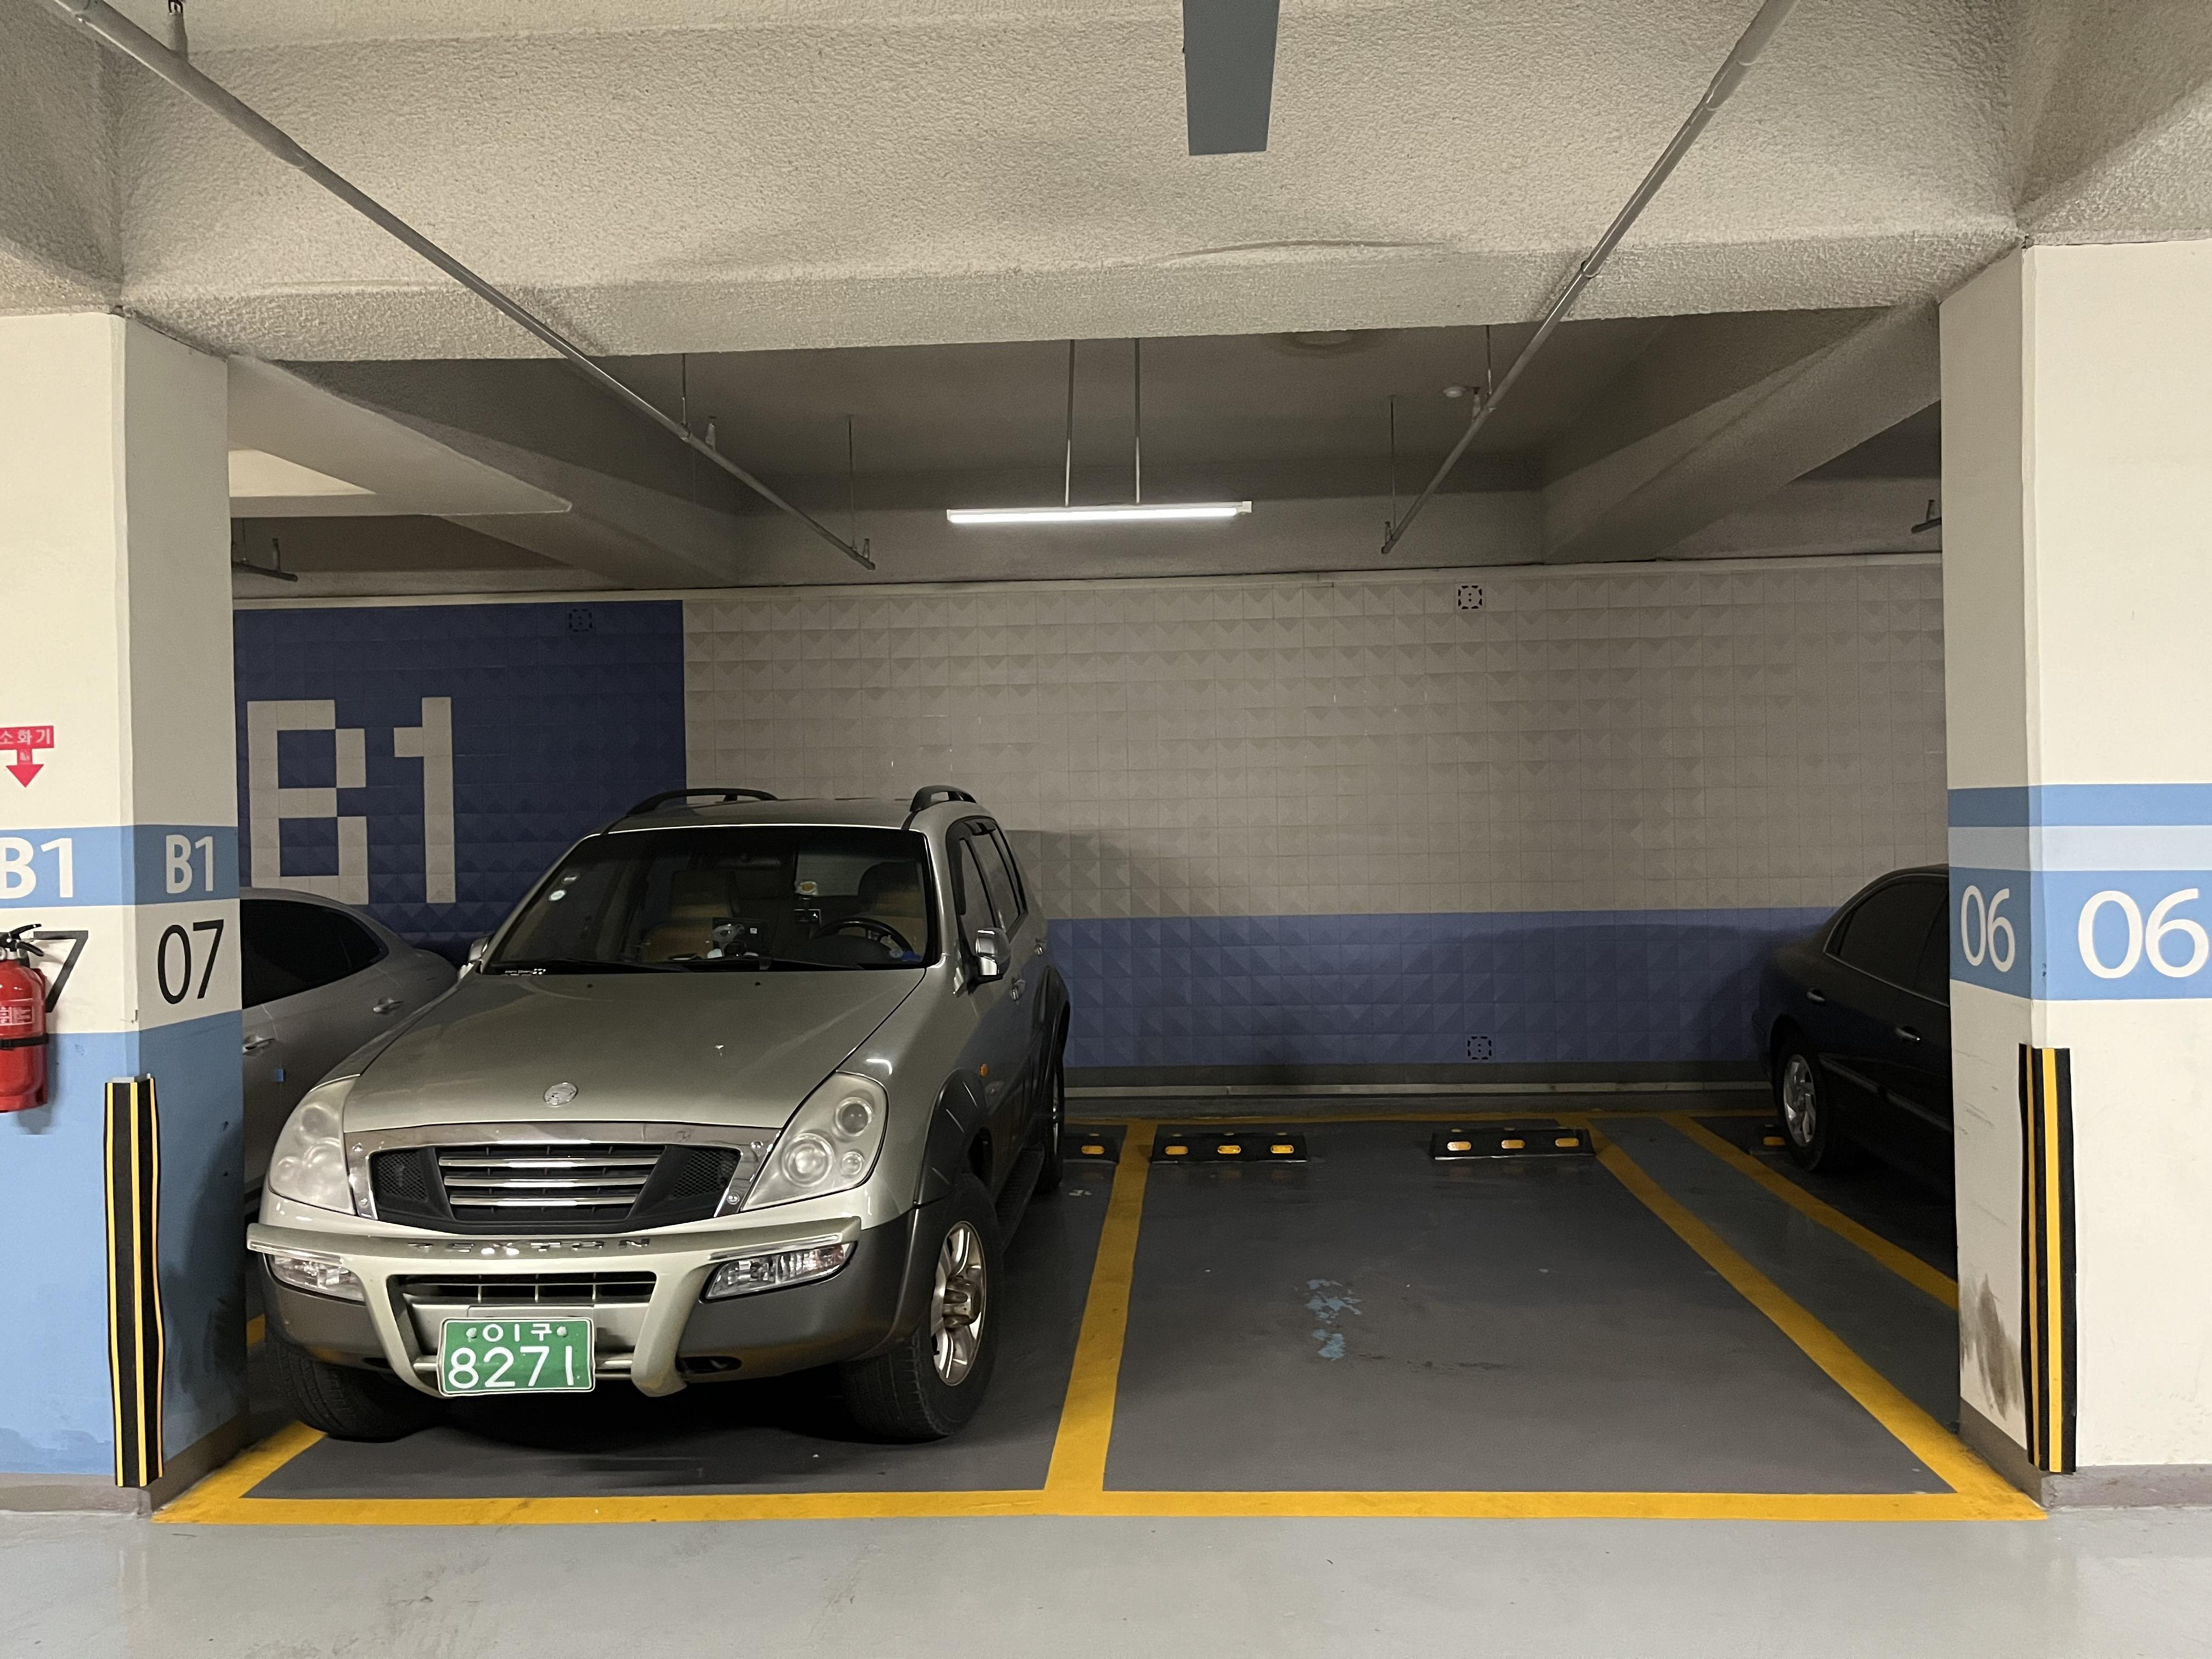empty: (1059, 1103, 2075, 1516)
occupied: (215, 763, 1073, 1532)
